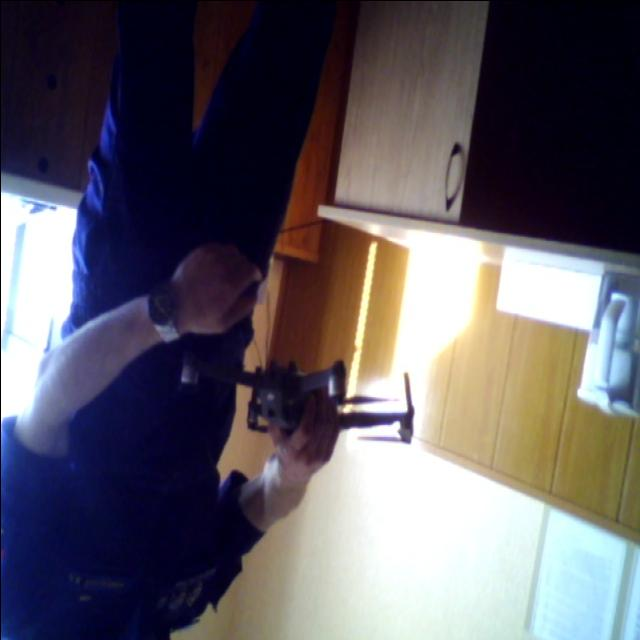drone: (152, 329, 432, 475)
